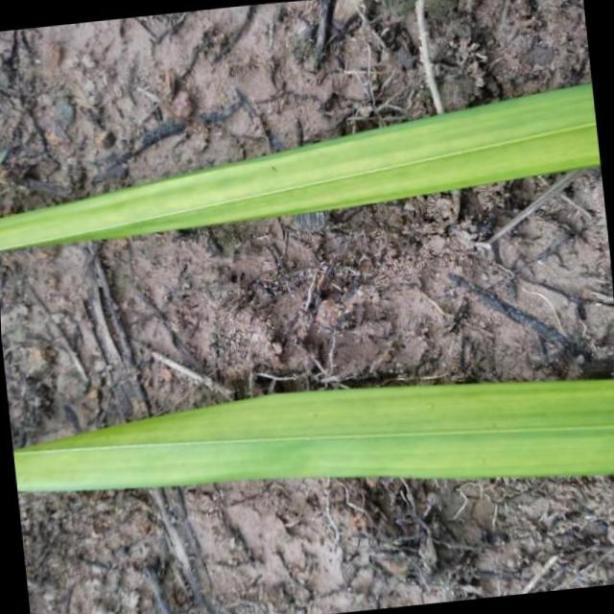nitrogen: (0, 82, 614, 254), (0, 377, 614, 494)
